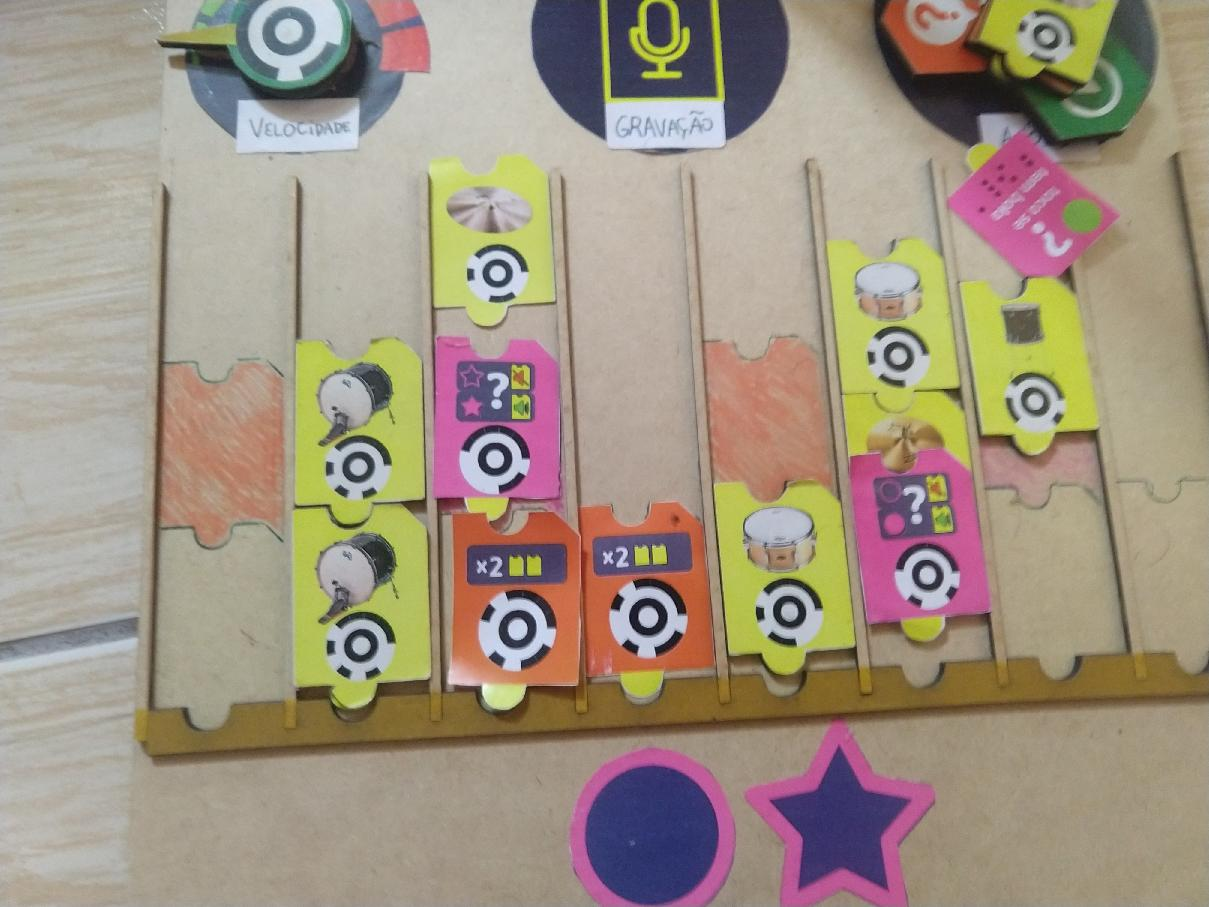bumbo: (289, 504, 434, 704), (291, 336, 429, 524)
